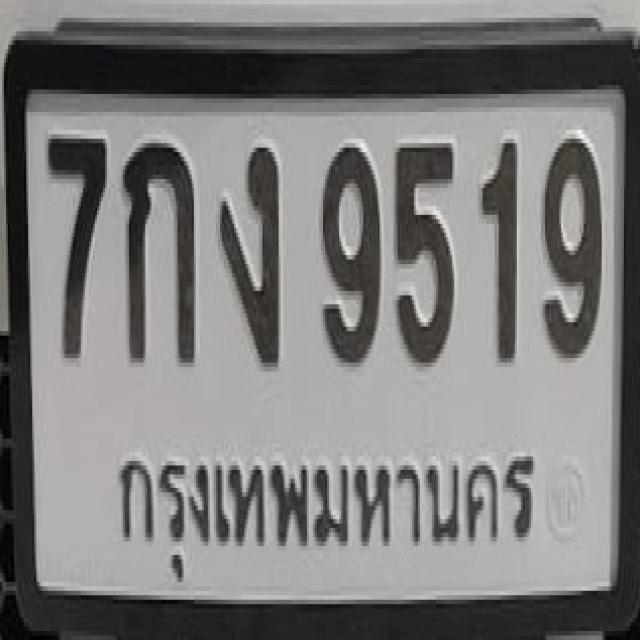license_plate: (6, 22, 638, 640)
